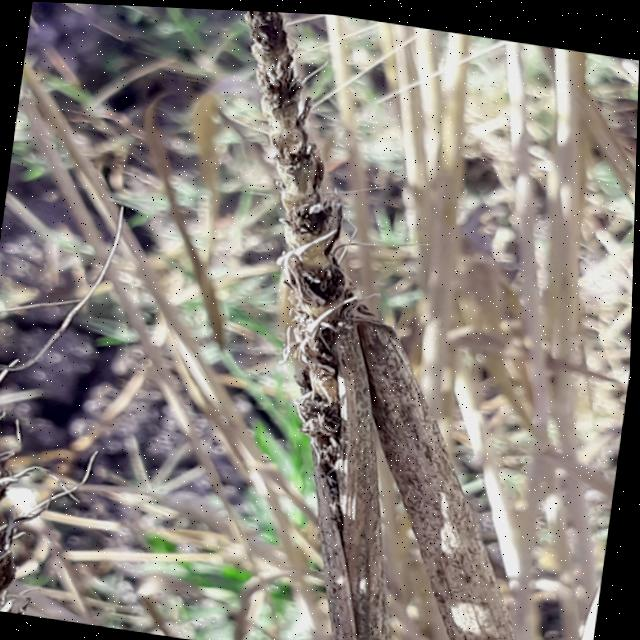loose_charred: (120, 5, 589, 640), (0, 322, 88, 618)
